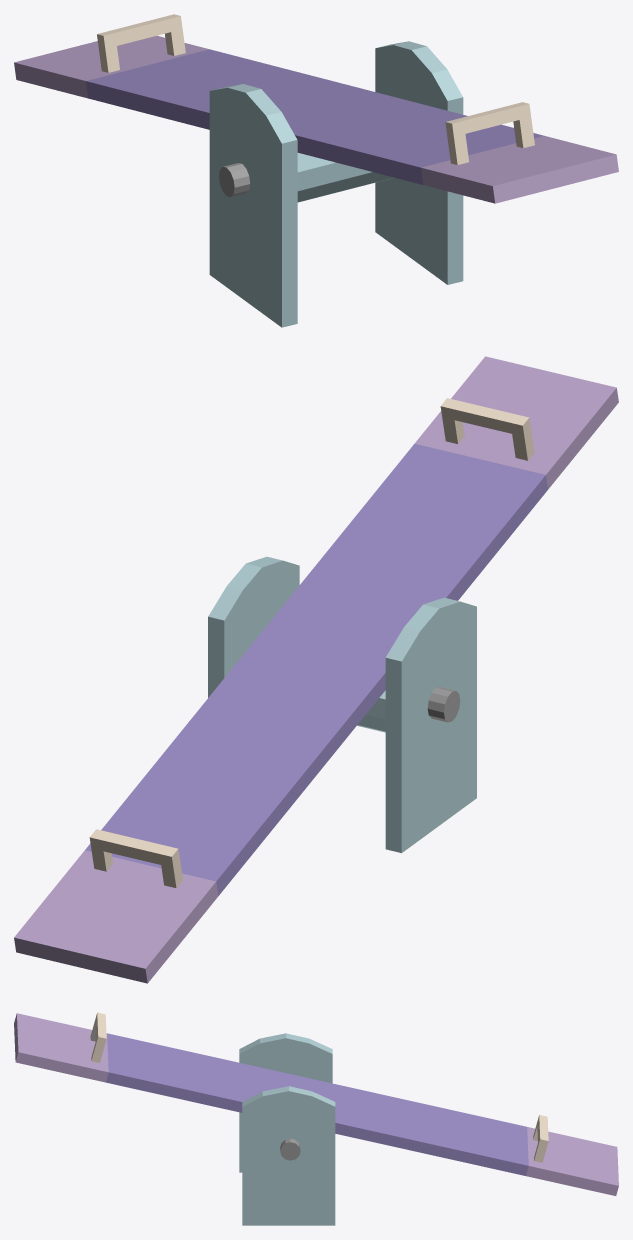
File: seesaw.glb
3 views of the same model, one above another, from view 1: azimuth 30°, elevation 25°; view 2: azimuth 150°, elevation 25°; view 3: azimuth 270°, elevation 25° (orthographic). The views are drawn at different scales.
Parts seen in each view (by area): view 1: seasaw1, seasaw2; view 2: seasaw1, seasaw2; view 3: seasaw1, seasaw2.
Part boxes in pixels (<box>): seasaw1: <box>14,14,618,203</box>; seasaw2: <box>209,41,463,327</box>; seasaw1: <box>14,356,618,983</box>; seasaw2: <box>208,556,476,853</box>; seasaw1: <box>14,1012,618,1195</box>; seasaw2: <box>239,1033,335,1225</box>.
Size of the model in its own units: 3.01 by 3.69 by 11.6.
